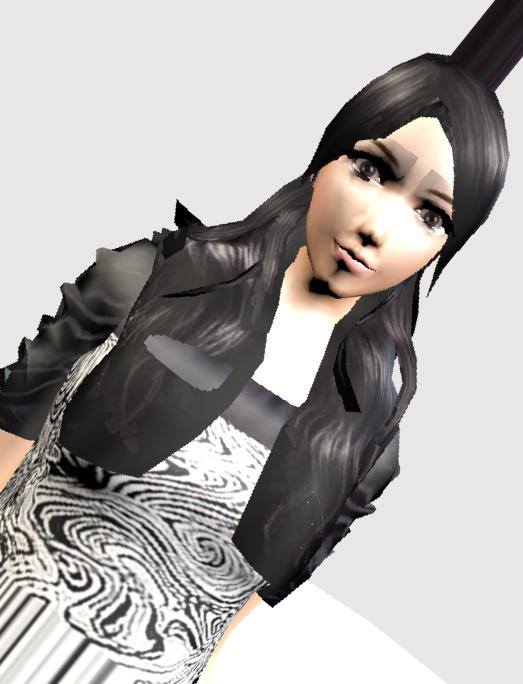clip: (142, 327, 232, 392)
